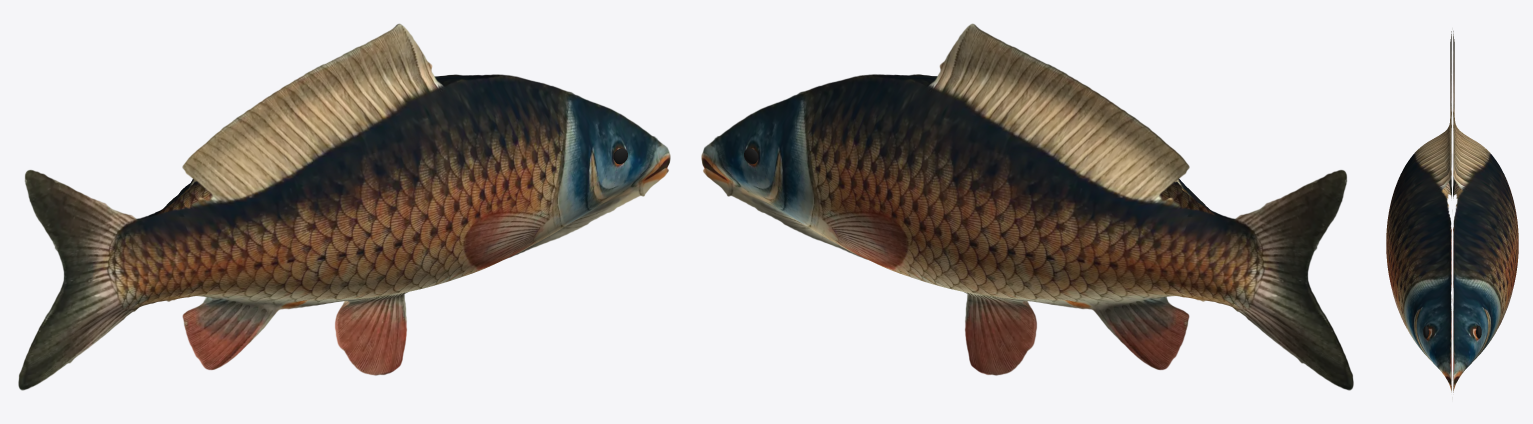
The model's file is carpe-commune.glb.
3 views of the same model, side by side, from view 1: azimuth 30°, elevation 25°; view 2: azimuth 150°, elevation 25°; view 3: azimuth 270°, elevation 25° (orthographic). The views are drawn at different scales.
Visible parts, largest first — view 1: carpe-commune; view 2: carpe-commune; view 3: carpe-commune.
Part boxes in pixels (<box>): carpe-commune: <box>18,23,670,390</box>; carpe-commune: <box>701,23,1353,390</box>; carpe-commune: <box>1386,31,1518,398</box>.
Size of the model in its own units: 1 by 0.5161 by 0.2268.
2 materials, 1 textured.
